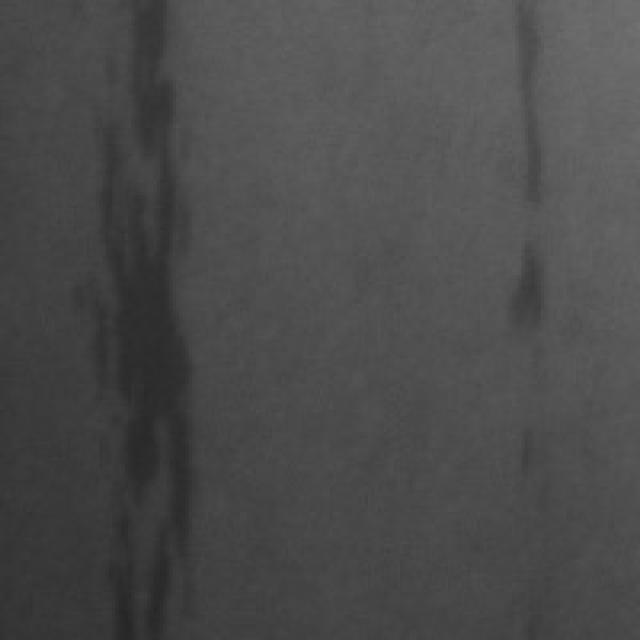inclusion: (80, 0, 208, 630), (499, 0, 566, 211), (502, 237, 570, 371), (502, 413, 550, 496)
